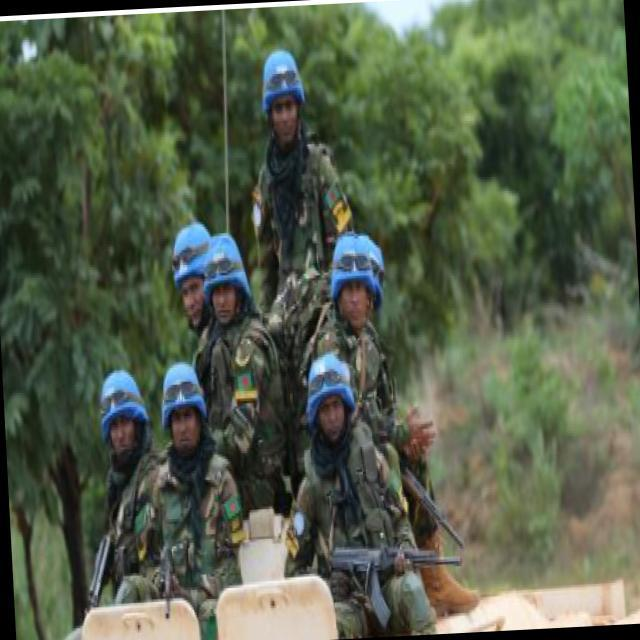hard_hat: (326, 229, 381, 338), (199, 227, 255, 334), (95, 363, 152, 466), (167, 218, 220, 323), (255, 42, 309, 143), (302, 352, 359, 445), (158, 359, 211, 454), (357, 230, 391, 327)
